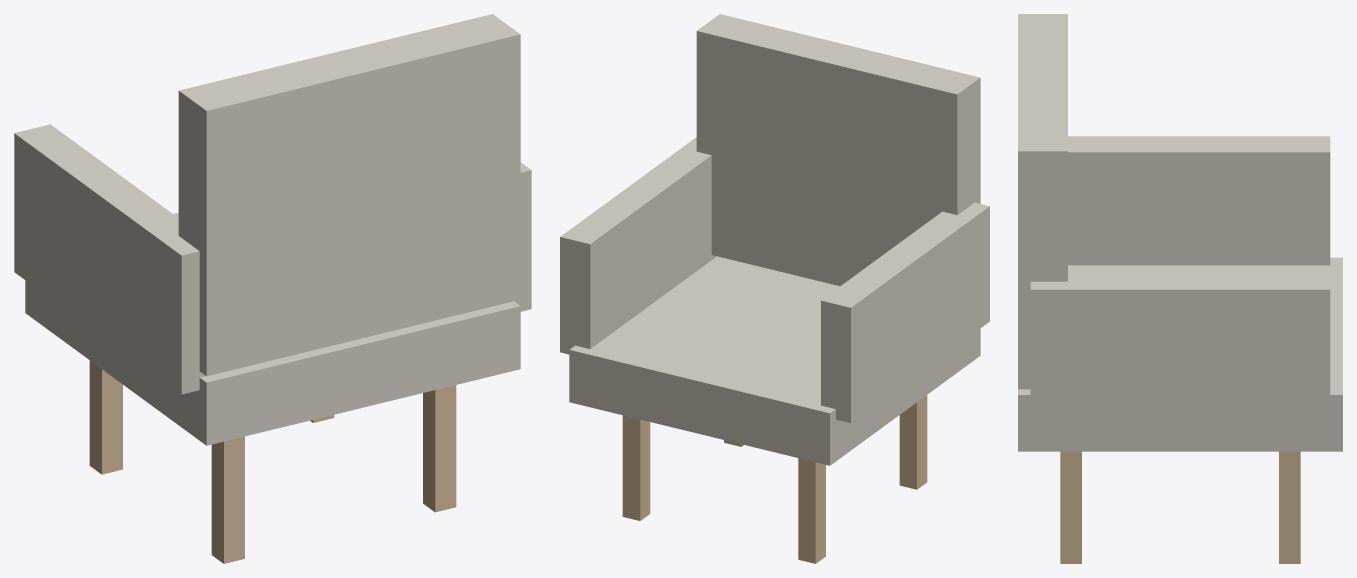
The model's file is guest-chair.glb.
3 views of the same model, side by side, from view 1: azimuth 30°, elevation 25°; view 2: azimuth 150°, elevation 25°; view 3: azimuth 270°, elevation 25° (orthographic). The views are drawn at different scales.
Parts seen in each view (by area): view 1: root; view 2: root; view 3: root.
Part boxes in pixels (box(x1,y1,x2,y2)): root: box(14, 14, 531, 563); root: box(560, 14, 989, 563); root: box(1018, 14, 1342, 563).
Bounding box in the file's own units: 0.58 × 0.76 × 0.52.
